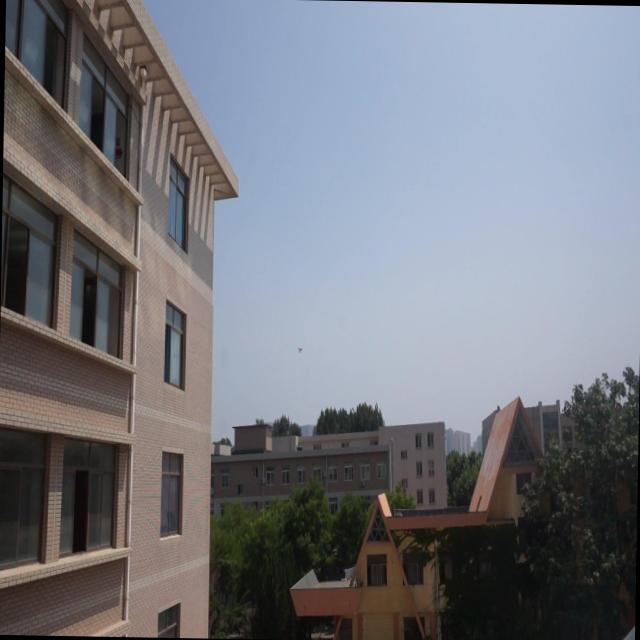drone: (296, 342, 306, 354)
